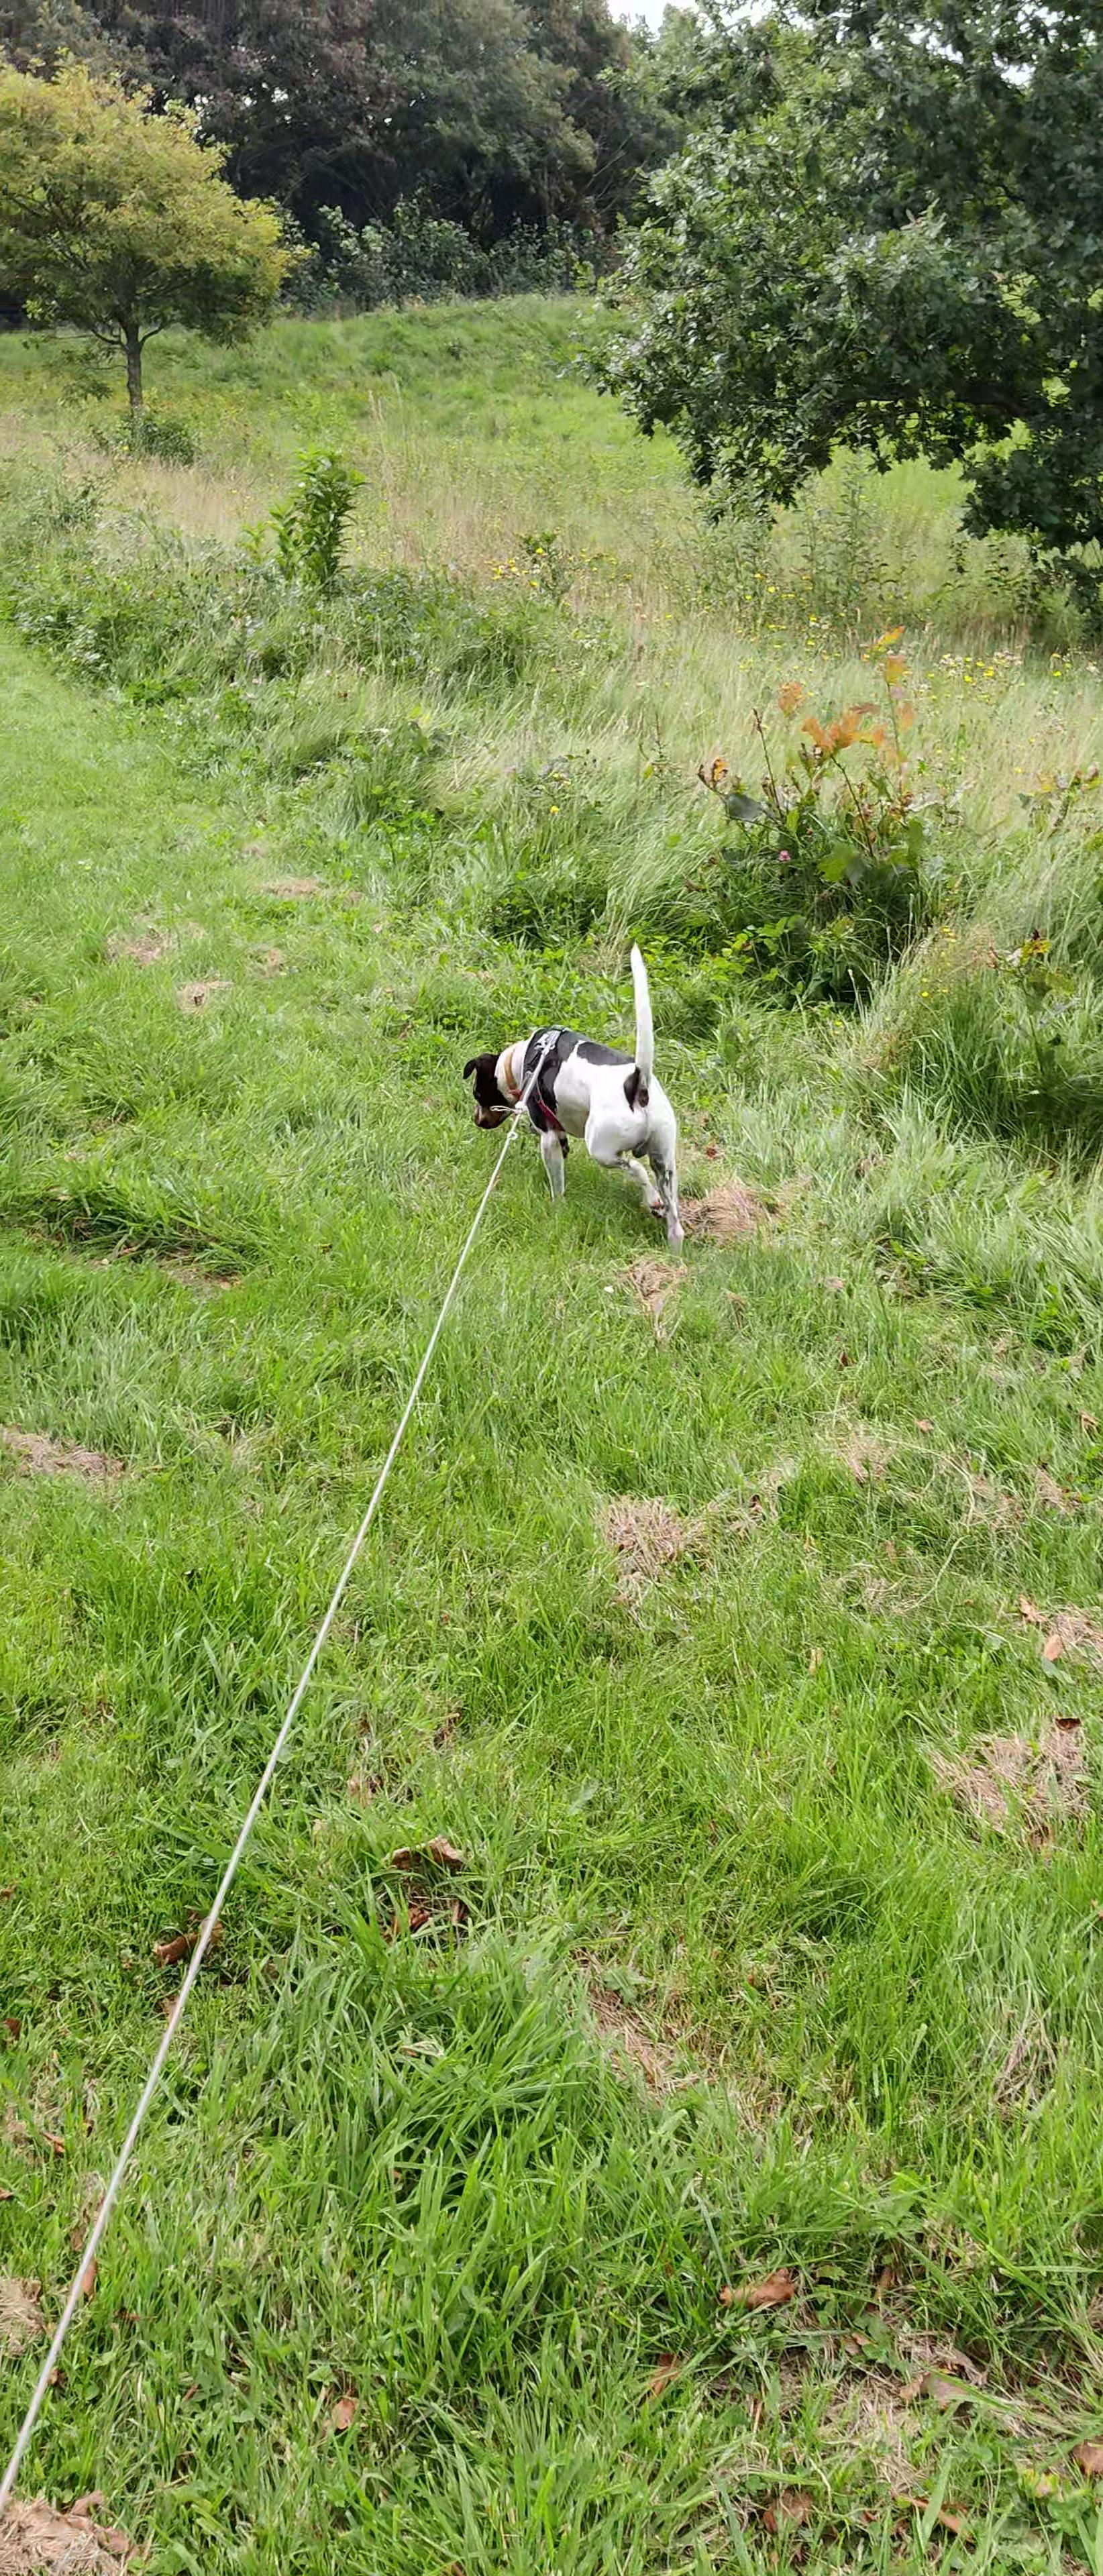Dog: (432, 930, 712, 1270)
